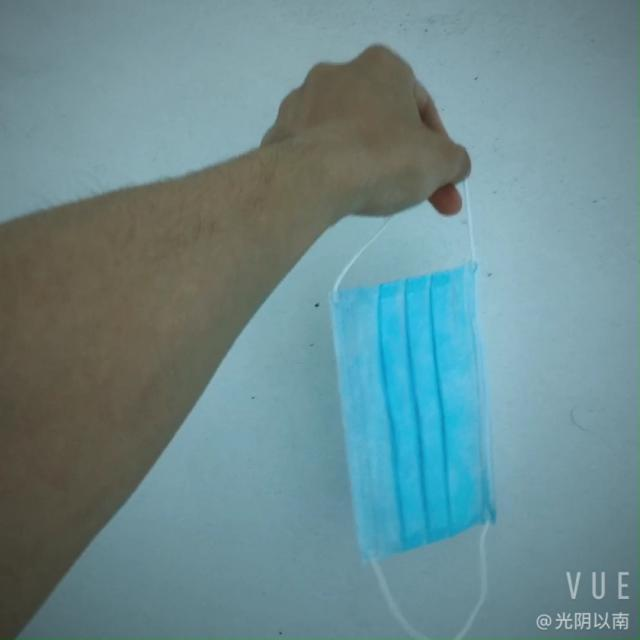face mask: (328, 246, 500, 576)
